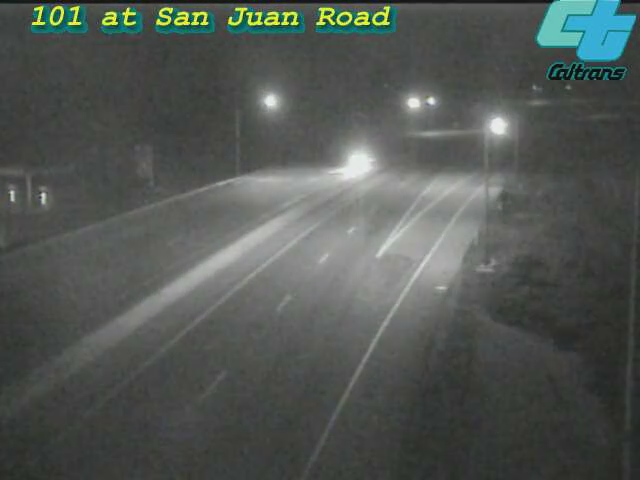vehicle: (316, 123, 396, 203), (474, 101, 524, 151)
